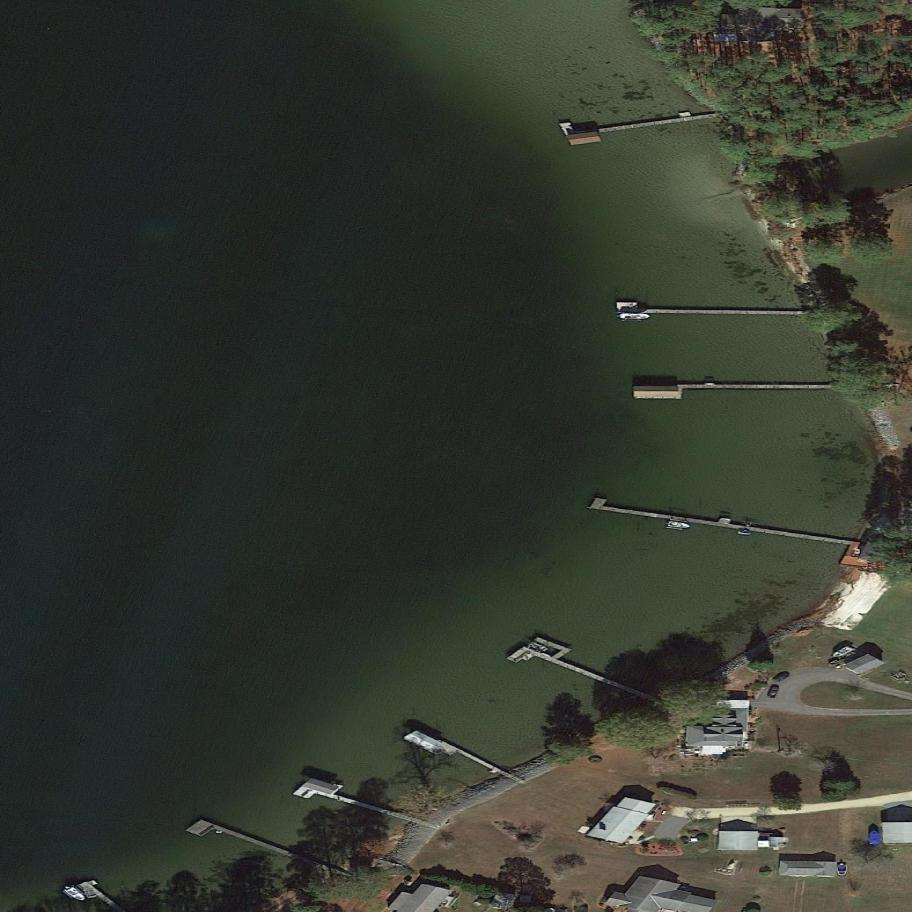ship: (59, 879, 90, 907), (828, 641, 859, 663), (663, 520, 693, 531), (619, 313, 653, 321), (836, 862, 850, 876), (867, 832, 881, 845)
small-vehicle: (768, 667, 795, 688), (765, 681, 782, 702)
